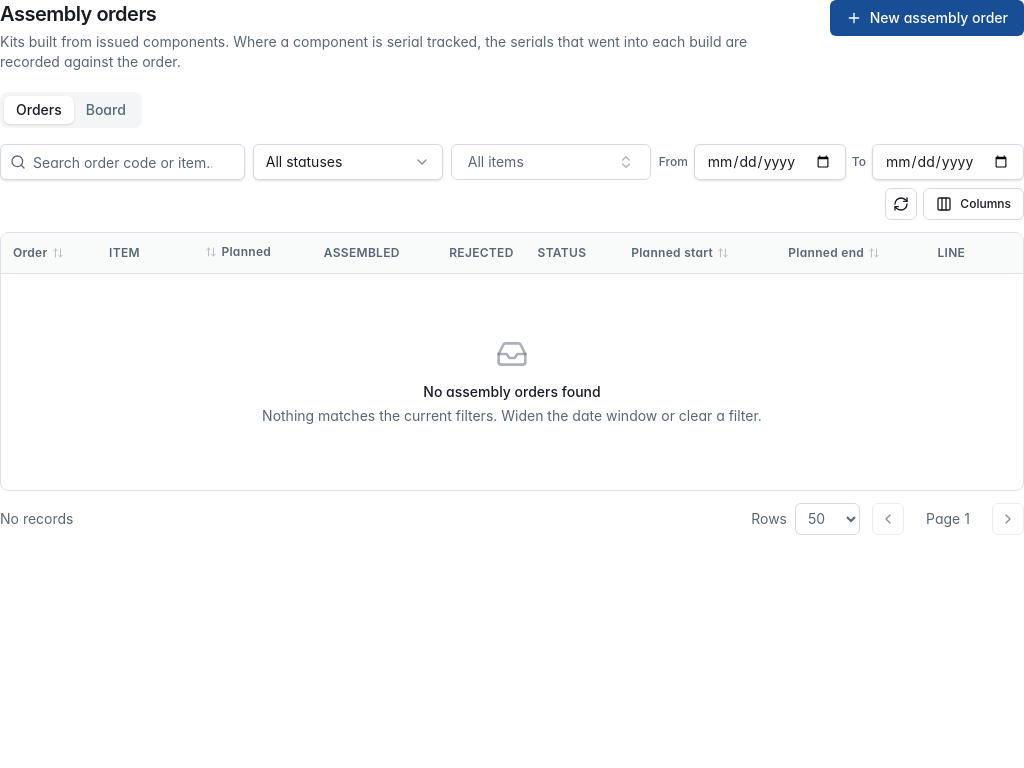
Test: raising an assembly order › requires the item, the quantity and the component warehouse
Click the button "New assembly order" at (927, 18), box [830,0,1023,36]
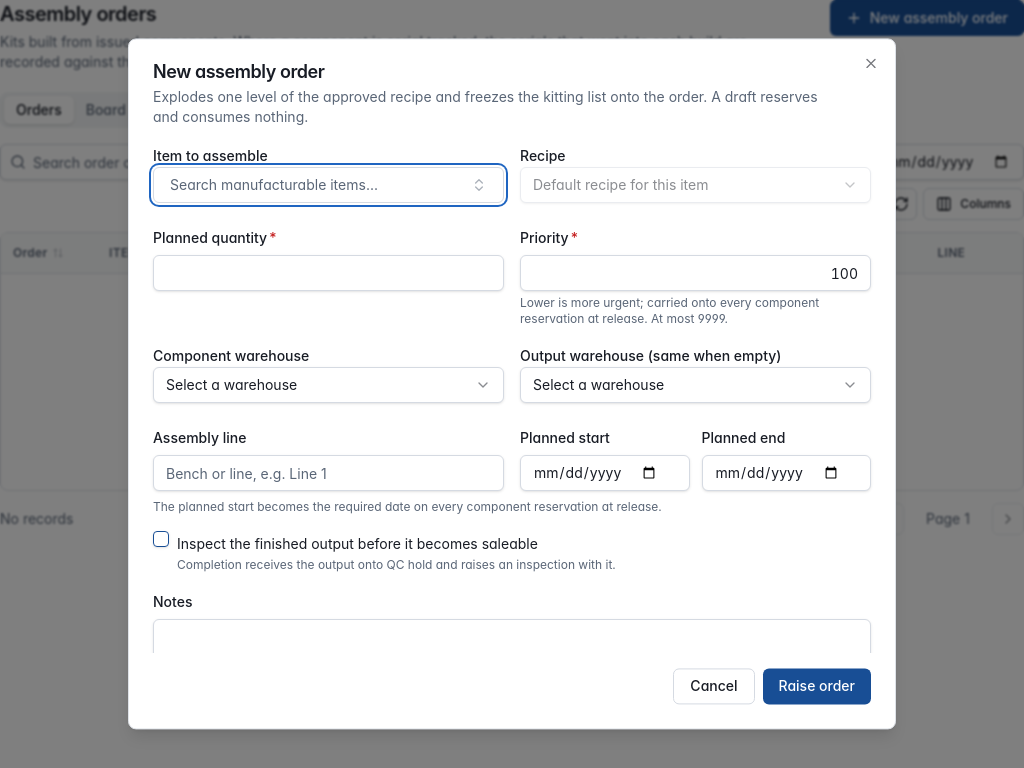
Click the button "Raise order" at (817, 687), box [762,669,871,705]
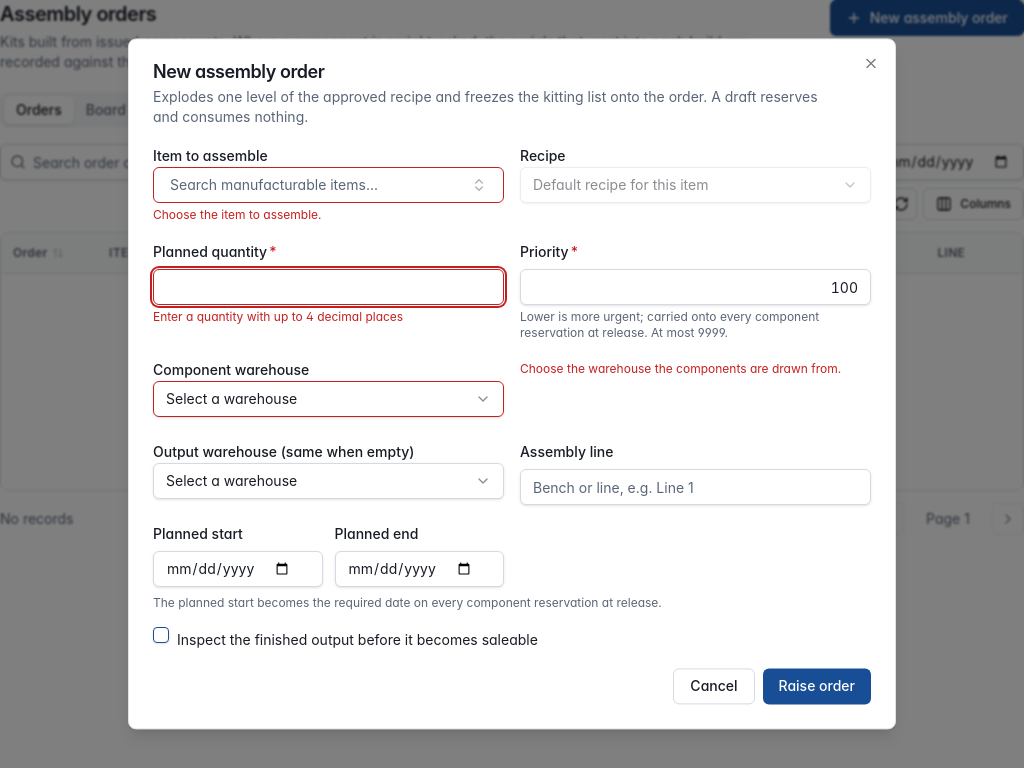
Now the text "Choose the item to assemble." is shown, box [153,207,322,222]
